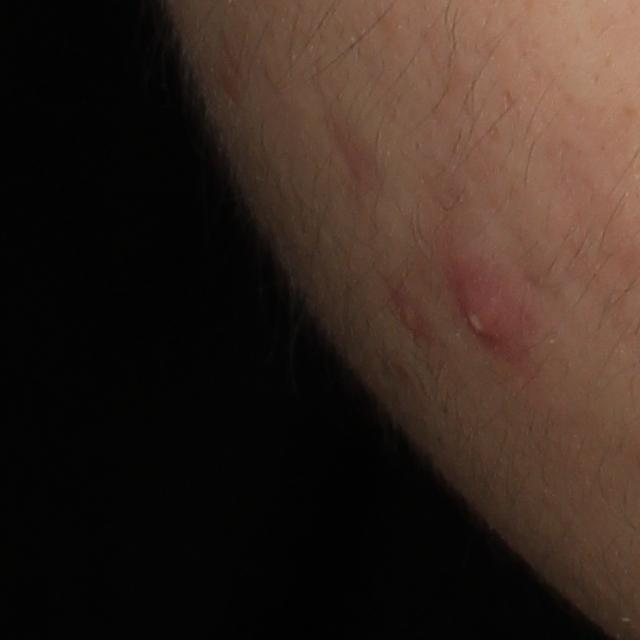pustule: (450, 255, 539, 367)
